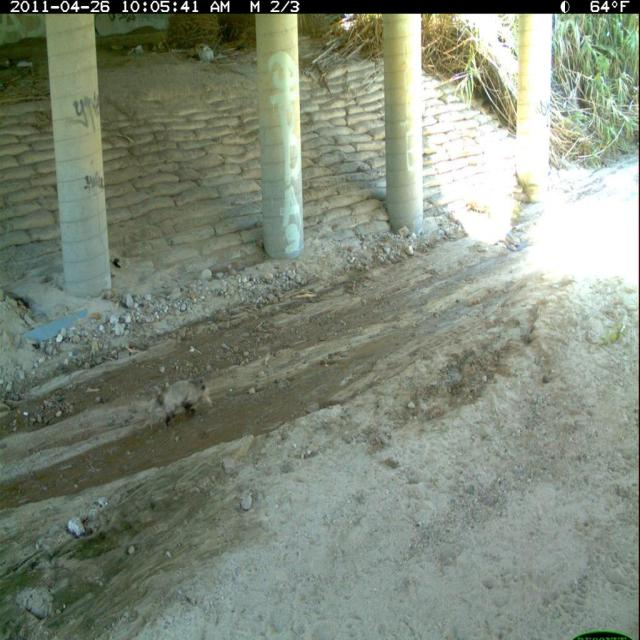opossum: (148, 370, 216, 434)
